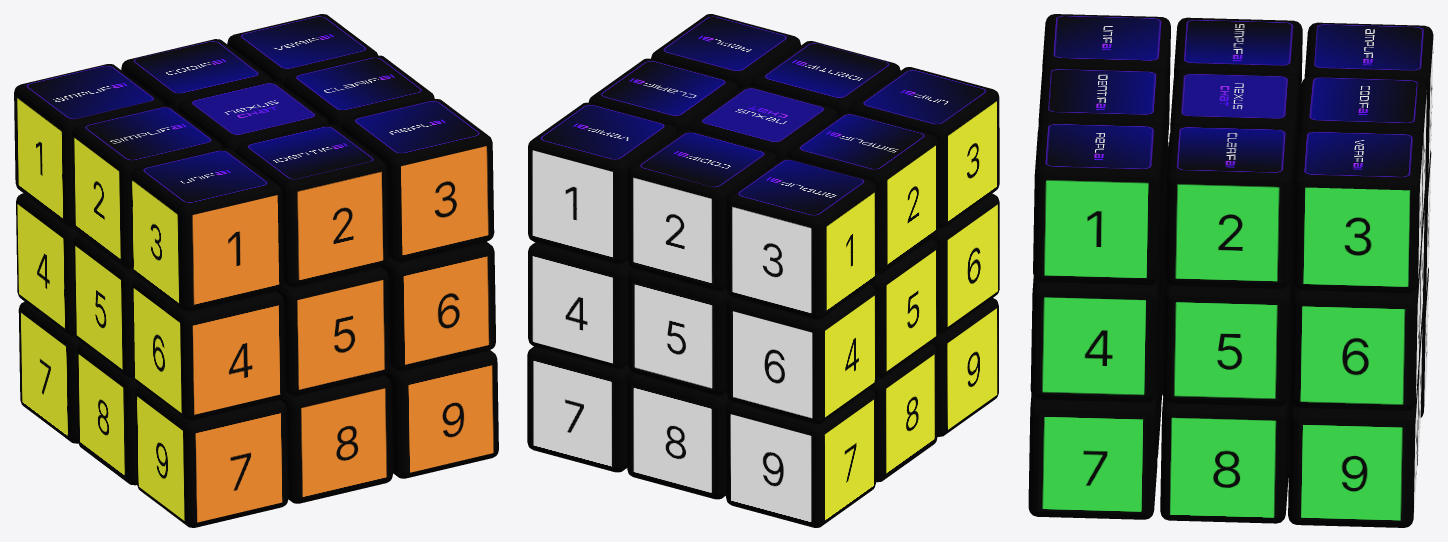
Rendered from Rubix_cube_fixed.glb.
3 renders of one model, left to right at view 1: azimuth 30°, elevation 25°; view 2: azimuth 150°, elevation 25°; view 3: azimuth 270°, elevation 25°, orthographic. The views are drawn at different scales.
Parts seen in each view (by area): view 1: Cube.039, Cube.057, Cube.030, Cube.066, Level_1.011, Cube.048, Cube.075, Level_1.003, Level_1.007, Level_1_1, Level_1_3, Level_1_4 (+34 smaller); view 2: Level_1.023, Cube.021, Cube.012, Level_1.027, Level_1.015, Level_1.035, Level_1.019, Level_1.031, Cube.003, Level_3_1, Cube.001, Cube.025 (+34 smaller); view 3: Cube.034, Cube.046, Cube.049, Cube.052, Cube.028, Cube.040, Cube.043, Cube.037, Cube.031, Level_1_3, Level_2_3, Level_3_3 (+23 smaller).
Boxes of the visible parts, x1,y1,x2,y2 form: Cube.039: (402, 254, 491, 365); Cube.057: (299, 387, 388, 498); Cube.030: (405, 362, 494, 473); Cube.066: (296, 280, 385, 390); Level_1.011: (190, 195, 279, 305); Cube.048: (400, 146, 489, 256); Cube.075: (294, 171, 383, 281); Level_1.003: (195, 412, 283, 522); Level_1.007: (192, 304, 280, 414); Level_1_1: (130, 148, 283, 311); Level_1_3: (341, 99, 494, 261); Level_1_4: (132, 277, 285, 420); Level_1.023: (531, 150, 614, 258); Cube.021: (730, 205, 812, 314); Cube.012: (730, 310, 812, 419); Level_1.027: (631, 385, 713, 494); Level_1.015: (531, 358, 613, 467); Level_1.035: (631, 177, 714, 285); Level_1.019: (532, 255, 614, 363); Level_1.031: (632, 282, 714, 390); Cube.003: (730, 414, 812, 522); Level_3_1: (726, 158, 876, 319); Cube.001: (823, 399, 874, 521); Cube.025: (947, 99, 998, 221); Cube.034: (1297, 422, 1405, 522); Cube.046: (1042, 179, 1150, 279); Cube.049: (1173, 183, 1282, 283); Cube.052: (1301, 187, 1410, 287); Cube.028: (1037, 414, 1146, 514); Cube.040: (1171, 300, 1280, 400); Cube.043: (1299, 305, 1408, 405); Cube.037: (1039, 297, 1148, 397); Cube.031: (1169, 417, 1278, 518); Level_1_3: (1033, 121, 1163, 284); Level_2_3: (1164, 125, 1295, 288); Level_3_3: (1292, 130, 1422, 293).
Size of the model in its own units: 6.35 by 6.27 by 6.44.
7 materials, 6 textured.
